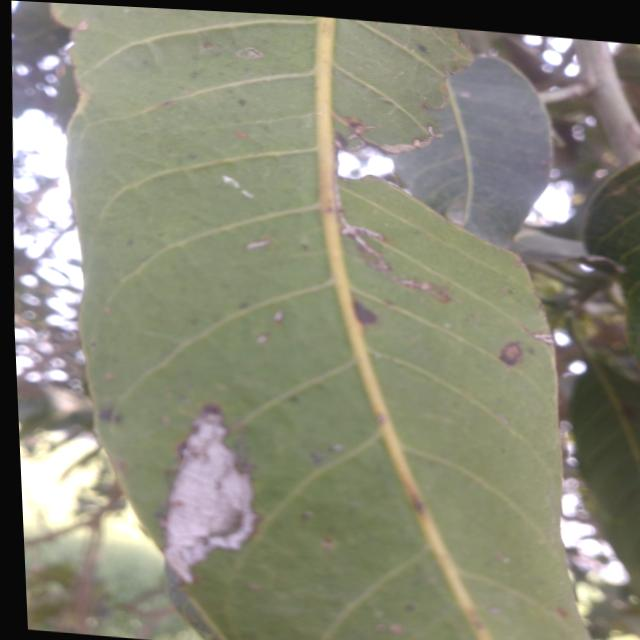Anthracnose: (337, 295, 385, 329), (495, 338, 533, 373)
Powdery Mildew: (148, 407, 246, 574)
